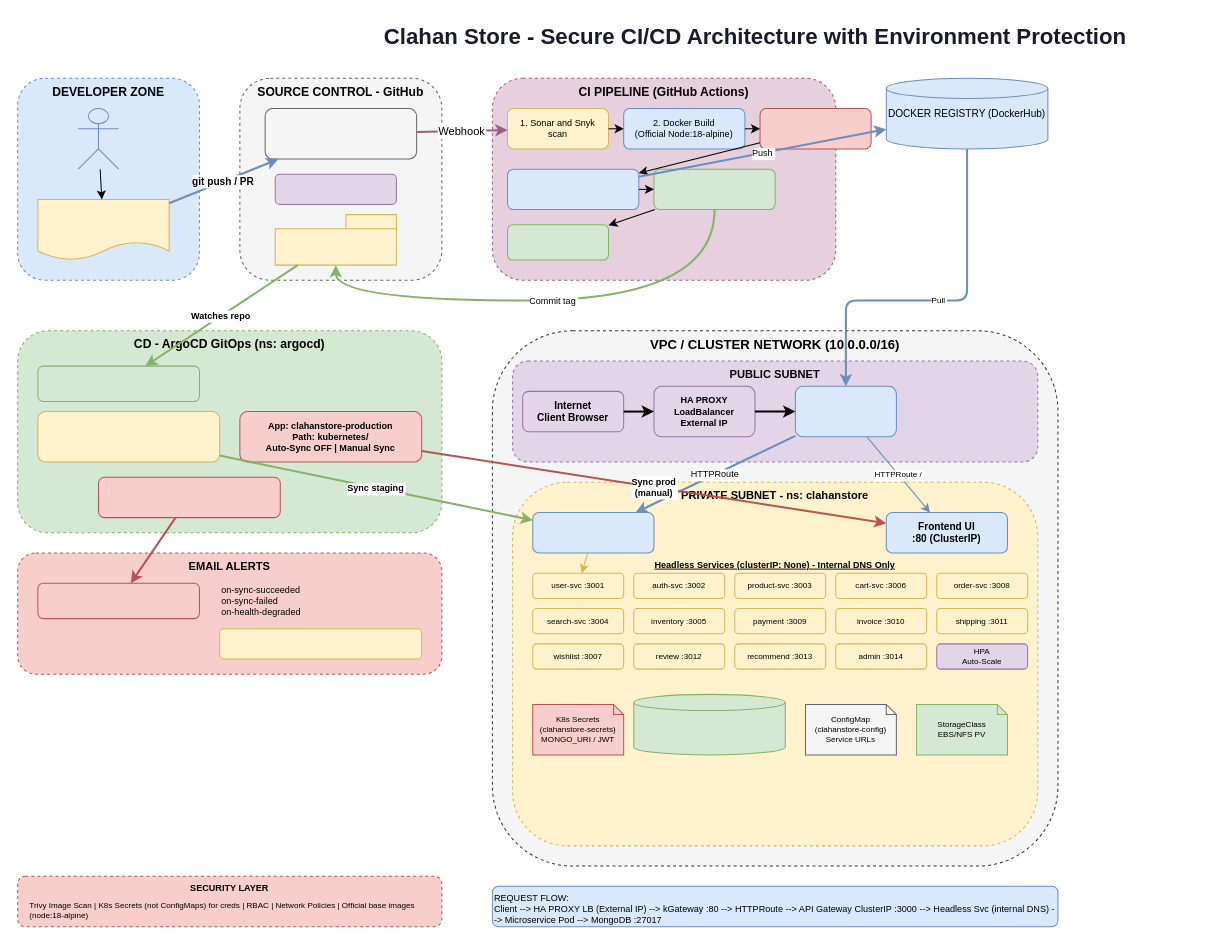
Image size: 1227x944. Some labels were removed from this diagram. The shapes that lost their labels are listed below. From the top down, each one's centre as x and y in pixels, then its label:
pixel 98 138: Developer
pixel 340 133: GitHub Repo muvvaalaakash/ E-Commerce-final
pixel 815 128: 3. Trivy Vulnerability Scan
pixel 335 189: main branch (Protected)
pixel 573 189: 4. Push to DockerHub team4devops/*:v1.x.x
pixel 714 189: 5. Update image tag in K8s manifests
pixel 103 229: Feature Branch Code + Dockerfile + K8s Manifests
pixel 335 239: kubernetes/ argocd/
pixel 558 242: 6. Deploy Staging (auto)
pixel 118 383: ArgoCD Server
pixel 845 411: kGateway (Gateway API) Port 80
pixel 128 436: App: clahanstore-staging Path: kubernetes/ Auto-Sync ON | Self-Heal ON
pixel 188 497: argocd-notifications Email via Gmail SMTP smtp.gmail.com:465
pixel 593 532: API Gateway :3000 (ClusterIP)
pixel 118 600: Gmail SMTP :465 aknagasai2104@gmail.com
pixel 320 643: Deployment Activity Log (who deployed, when, what revision)
pixel 709 724: MongoDB StatefulSet (mongo:6.0 :27017) Headless SVC / PVC
